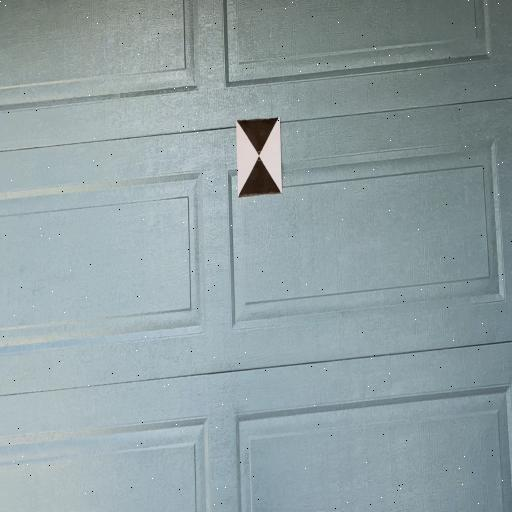target: (237, 117, 282, 197)
